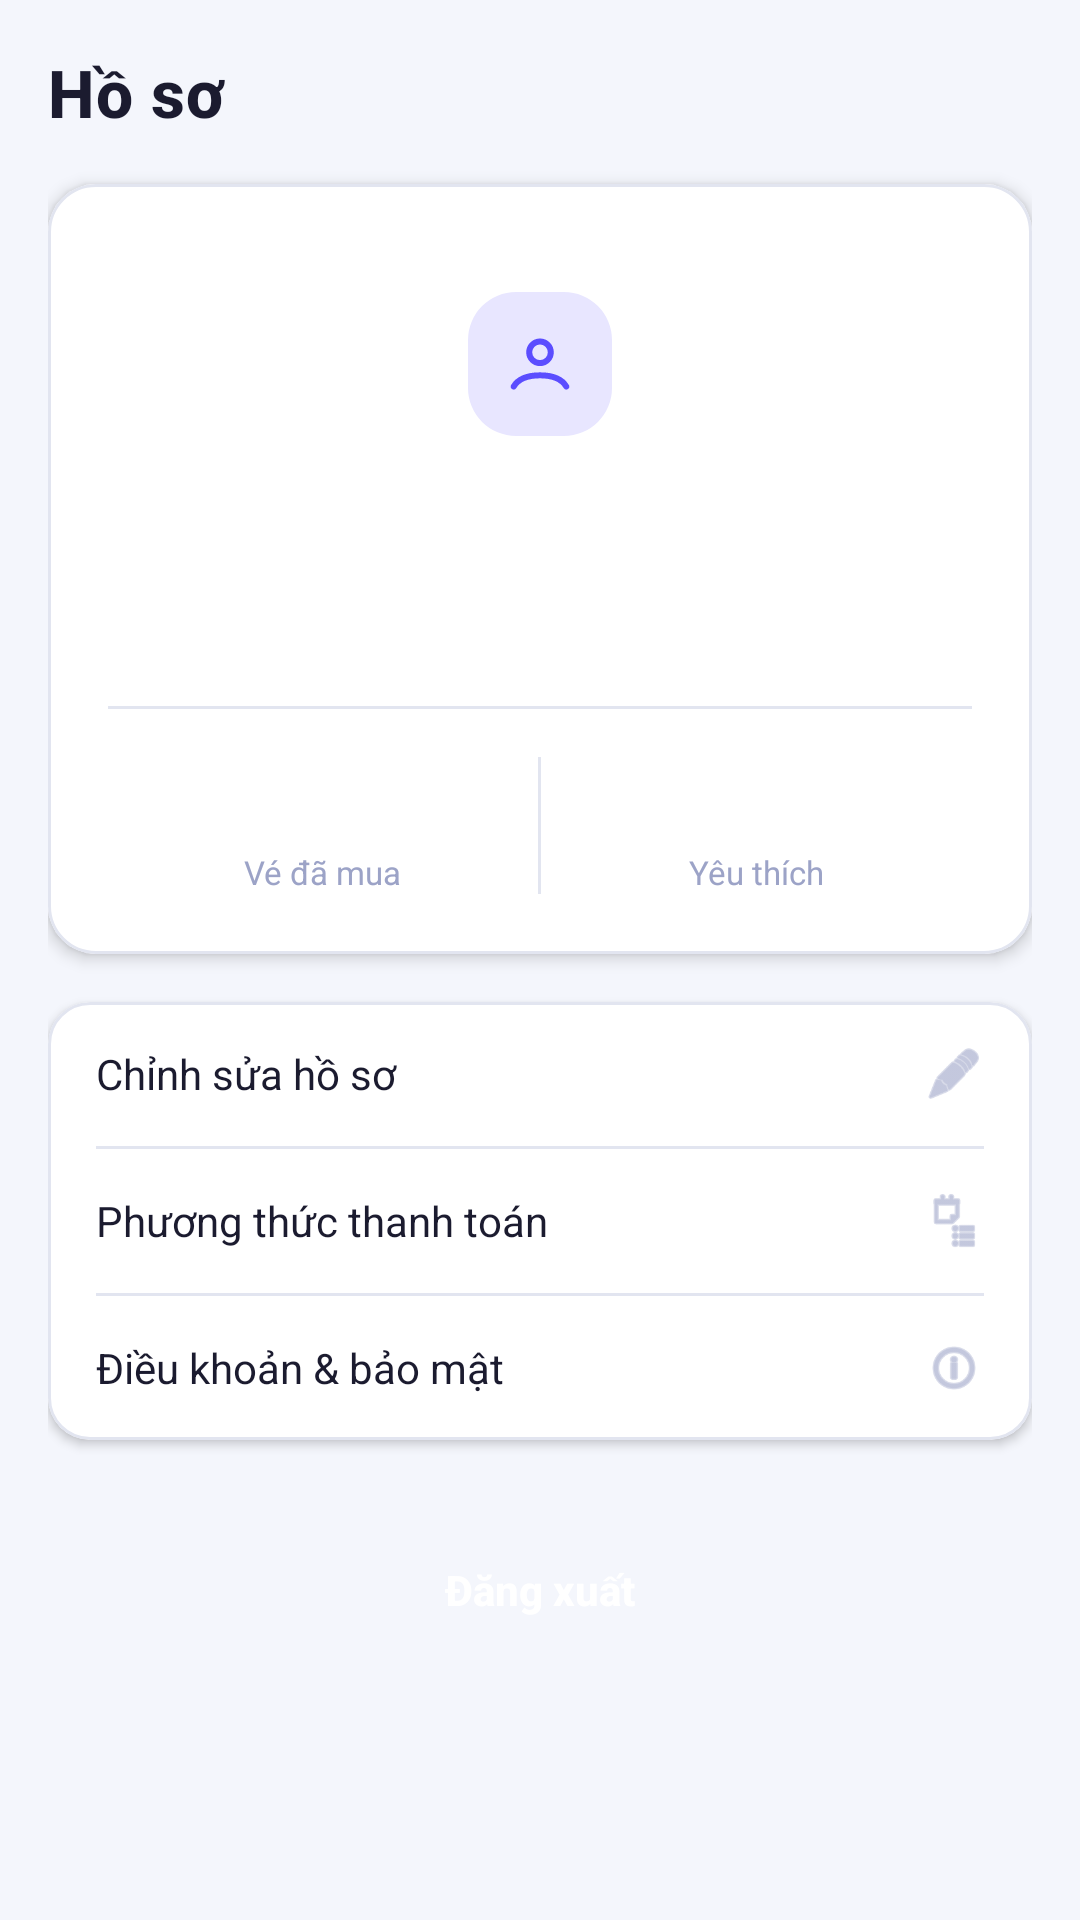

Icon click points for this 1080px×1920px phone screenshot, format [x,y]:
agenda: [954,1220]
edit: [954,1073]
info details: [954,1368]
user: [540,364]
